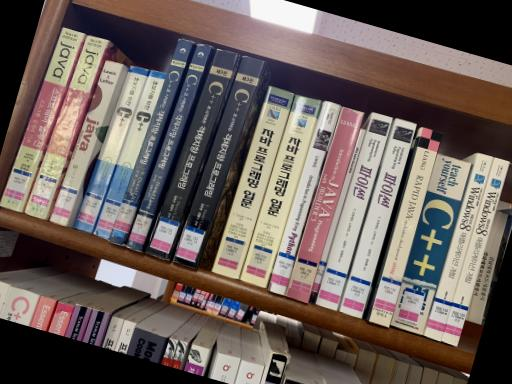book-spine: (173, 56, 263, 268), (147, 49, 237, 260), (126, 43, 211, 252), (109, 39, 192, 245), (23, 35, 109, 220), (212, 87, 294, 279), (0, 28, 85, 212), (315, 112, 393, 311), (240, 94, 320, 288), (285, 107, 364, 303), (340, 118, 416, 319), (368, 128, 442, 328), (390, 153, 471, 335), (269, 101, 340, 295), (426, 153, 494, 342), (442, 158, 509, 347), (74, 66, 149, 234), (93, 70, 167, 239), (49, 60, 123, 227), (309, 130, 366, 303)
